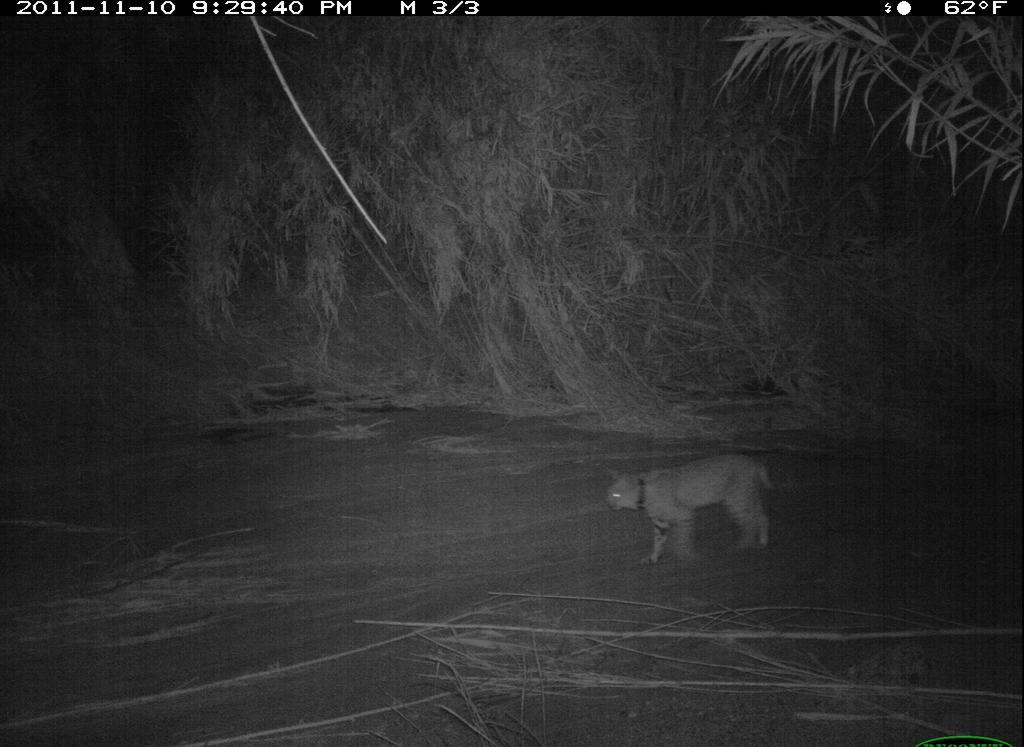bobcat: (605, 450, 783, 565)
